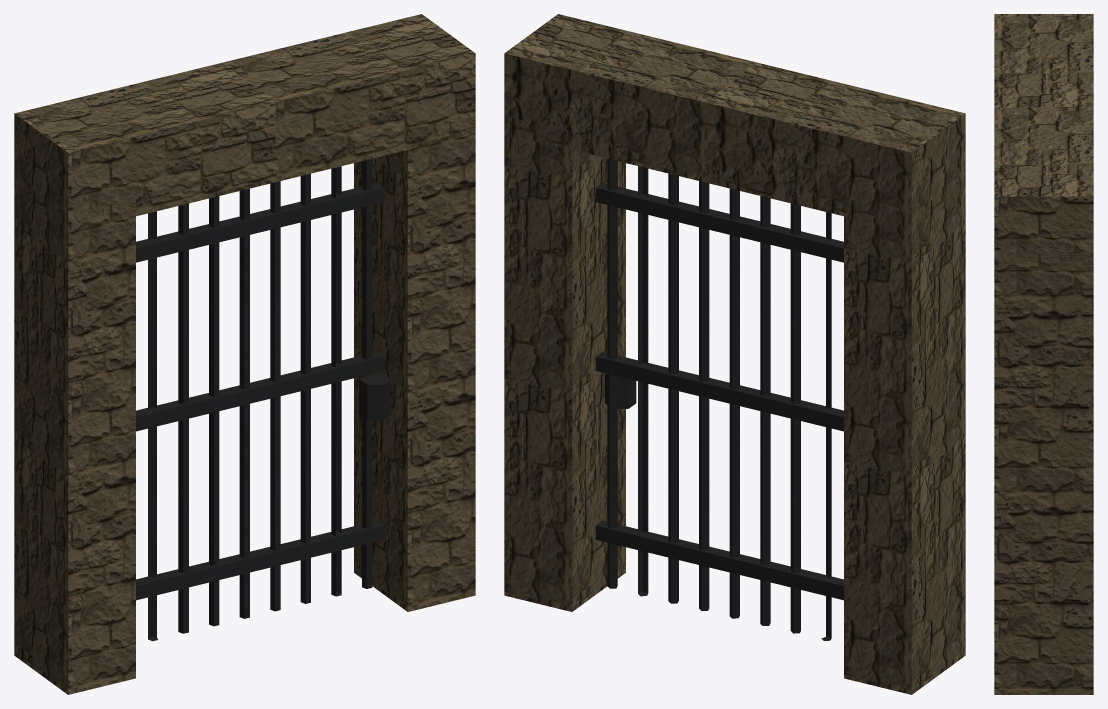
File: bars_door_01.glb
3 renders of one model, left to right at view 1: azimuth 30°, elevation 25°; view 2: azimuth 150°, elevation 25°; view 3: azimuth 270°, elevation 25°, orthographic. The views are drawn at different scales.
Visible parts, largest first — view 1: bars_door_01; view 2: bars_door_01; view 3: bars_door_01.
Part boxes in pixels (x1,y1,x2,y2): bars_door_01: [14, 14, 475, 694]; bars_door_01: [504, 14, 965, 694]; bars_door_01: [994, 14, 1093, 694].
Bounding box in the file's own units: 2.4 × 3.05 × 0.55.
Materials: 2 (2 with a texture image).
